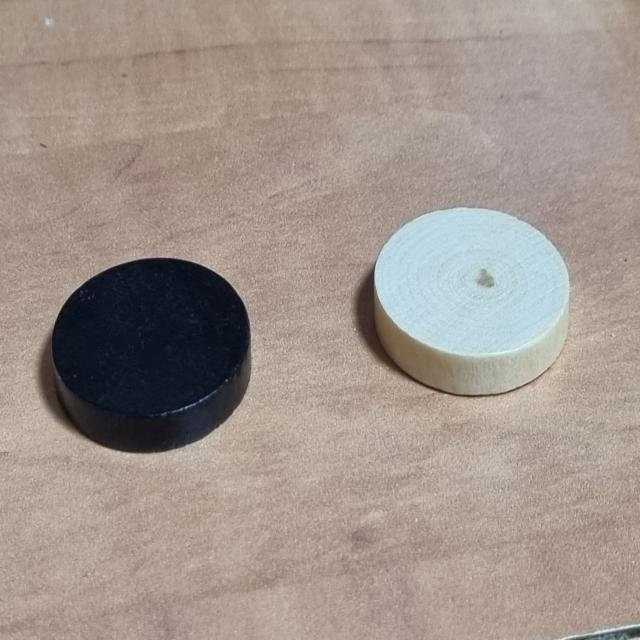black: (30, 212, 293, 502)
white: (329, 144, 587, 455)
